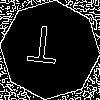T: (25, 25, 60, 73)
